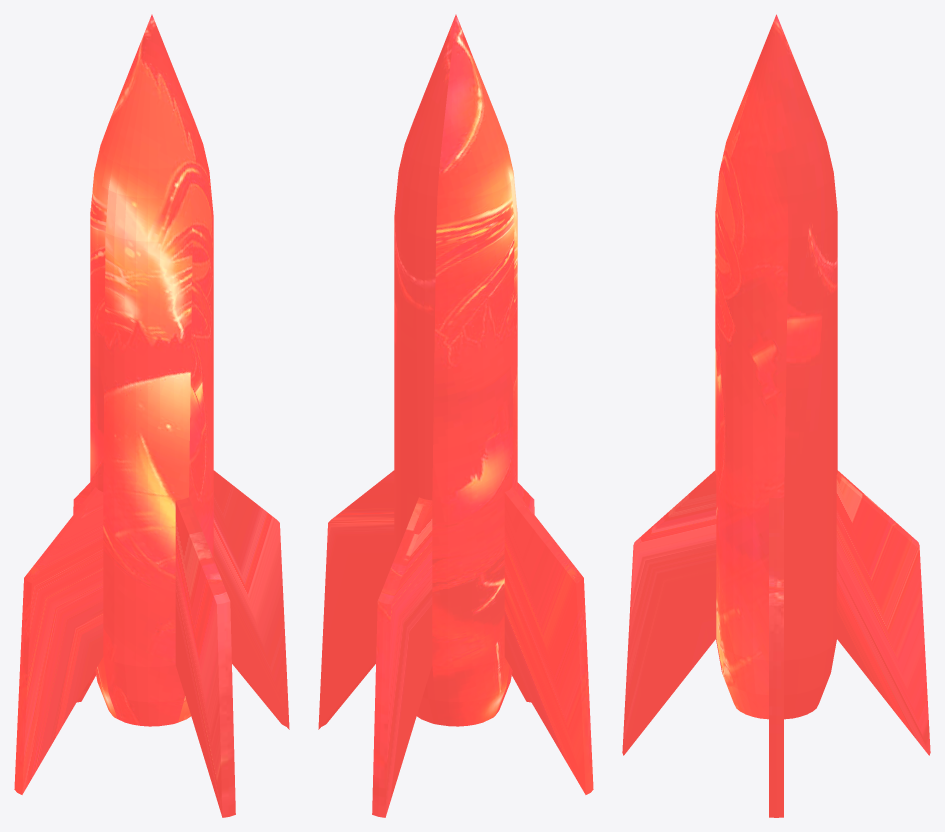
Rendered from rocket bullet.glb.
3 views of the same model, side by side, from view 1: azimuth 30°, elevation 25°; view 2: azimuth 150°, elevation 25°; view 3: azimuth 270°, elevation 25° (orthographic).
Parts seen in each view (by area): view 1: Cylinder; view 2: Cylinder; view 3: Cylinder.
Boxes of the visible parts, x1=… form: Cylinder: x1=14, y1=14, x2=289, y2=817; Cylinder: x1=318, y1=14, x2=593, y2=817; Cylinder: x1=622, y1=14, x2=930, y2=817.
Size of the model in its own units: 1.8 by 4.76 by 1.8.
Materials: 1 (1 with a texture image).
